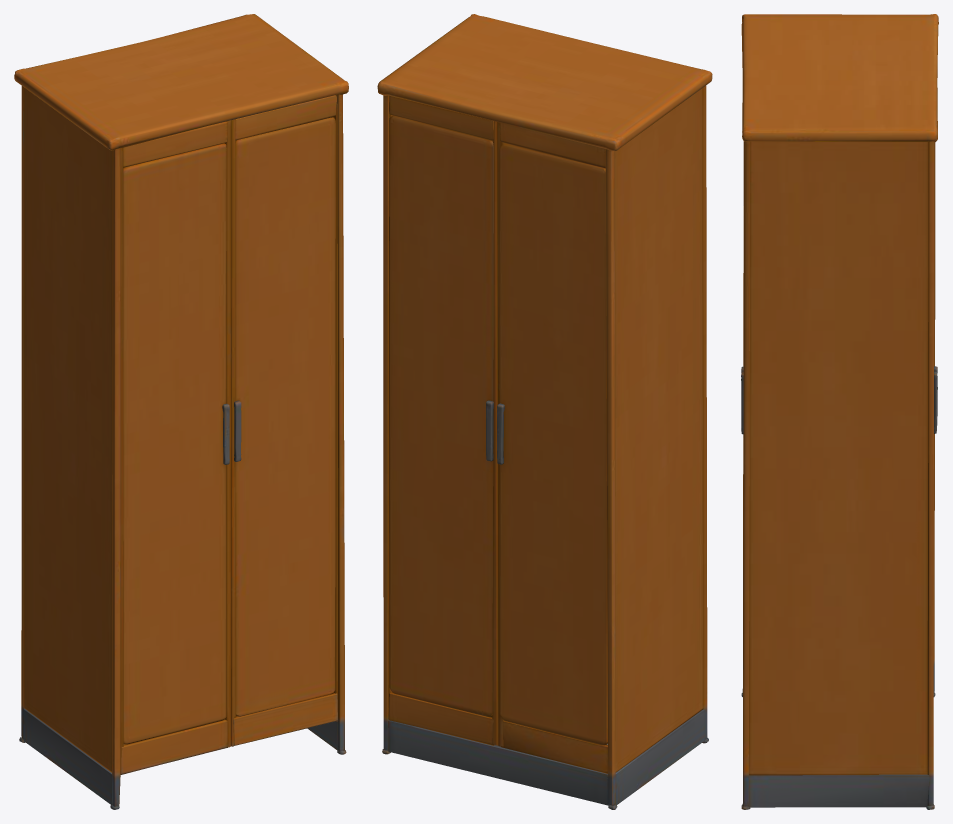
File: apartment-wardrobe.glb
3 views of the same model, side by side, from view 1: azimuth 30°, elevation 25°; view 2: azimuth 150°, elevation 25°; view 3: azimuth 270°, elevation 25° (orthographic).
Visible parts, largest first — view 1: apartment-wardrobe; view 2: apartment-wardrobe; view 3: apartment-wardrobe.
Boxes of the visible parts, box(x1,y1,x2,y2) form: apartment-wardrobe: box(14, 14, 348, 809); apartment-wardrobe: box(377, 14, 712, 809); apartment-wardrobe: box(741, 14, 938, 809).
Size of the model in its own units: 0.7156 by 1.9 by 0.5008.
1 material, 1 textured.
